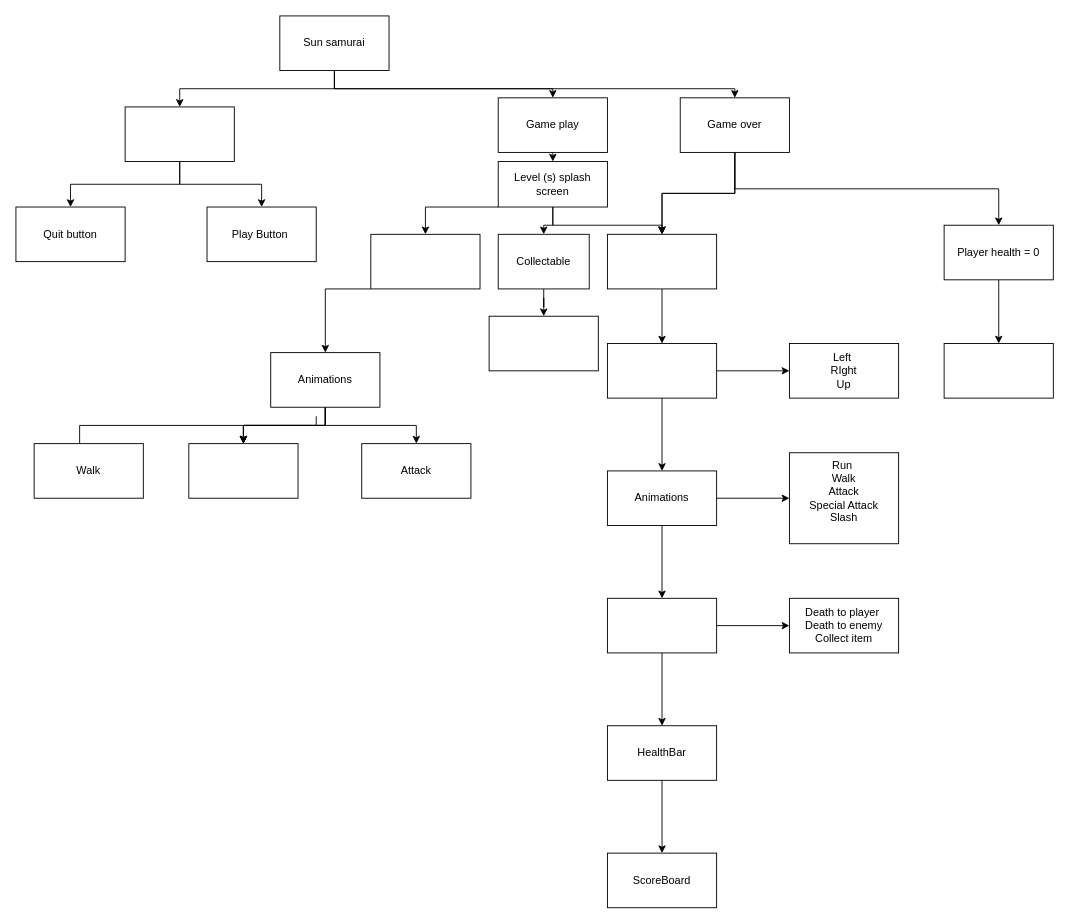
Some shapes in this 1069 by 924 pixel diagram are drawn without their labels. The shapes that lost their labels are listed below. From the top down, each one's centre as x and y in pixels, then its label:
At point (179, 134): "Main menu".
At point (425, 261): "Enemy Character".
At point (662, 261): "main character".
At point (543, 343): "Red potion".
At point (662, 370): "Movments".
At point (998, 370): "Display game over screen".
At point (243, 470): "Run".
At point (662, 625): "Collisons".
